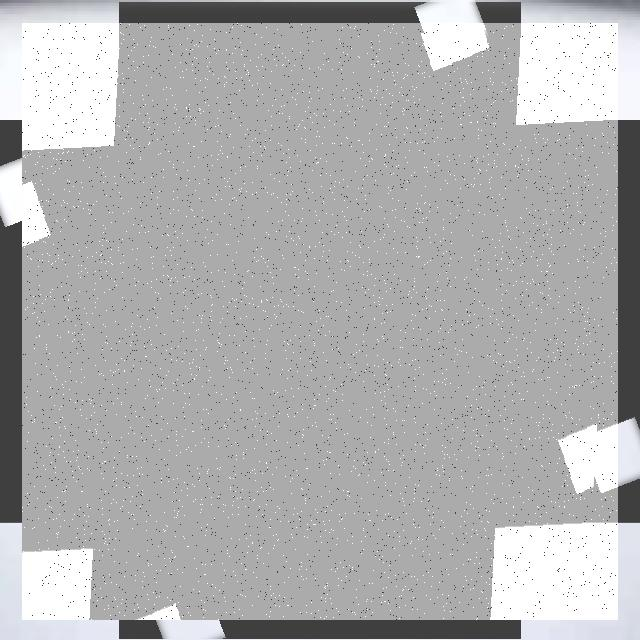dua puluh ribu rupiah: (22, 23, 618, 620)
